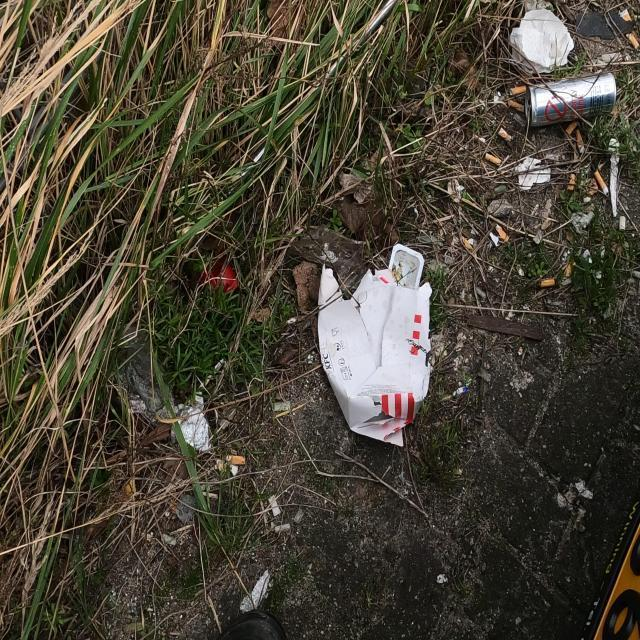Can-Metal: (184, 222, 253, 310), (524, 71, 622, 123)
Paper: (318, 262, 432, 450), (509, 8, 576, 68), (514, 156, 551, 191)
Plastic: (172, 395, 214, 455), (239, 568, 274, 614)
